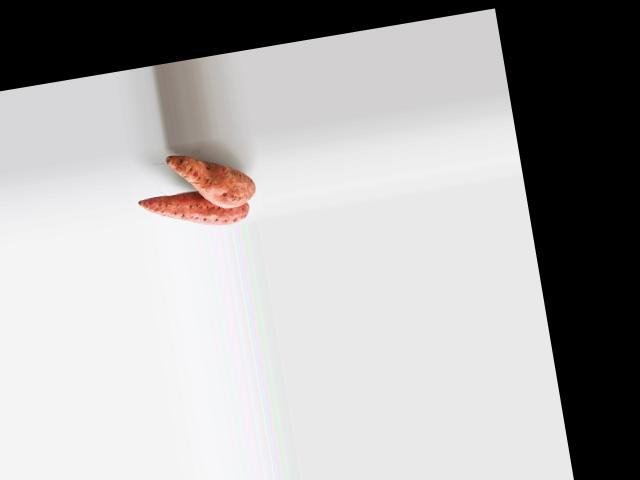sweet_potato: (144, 182, 250, 236)
